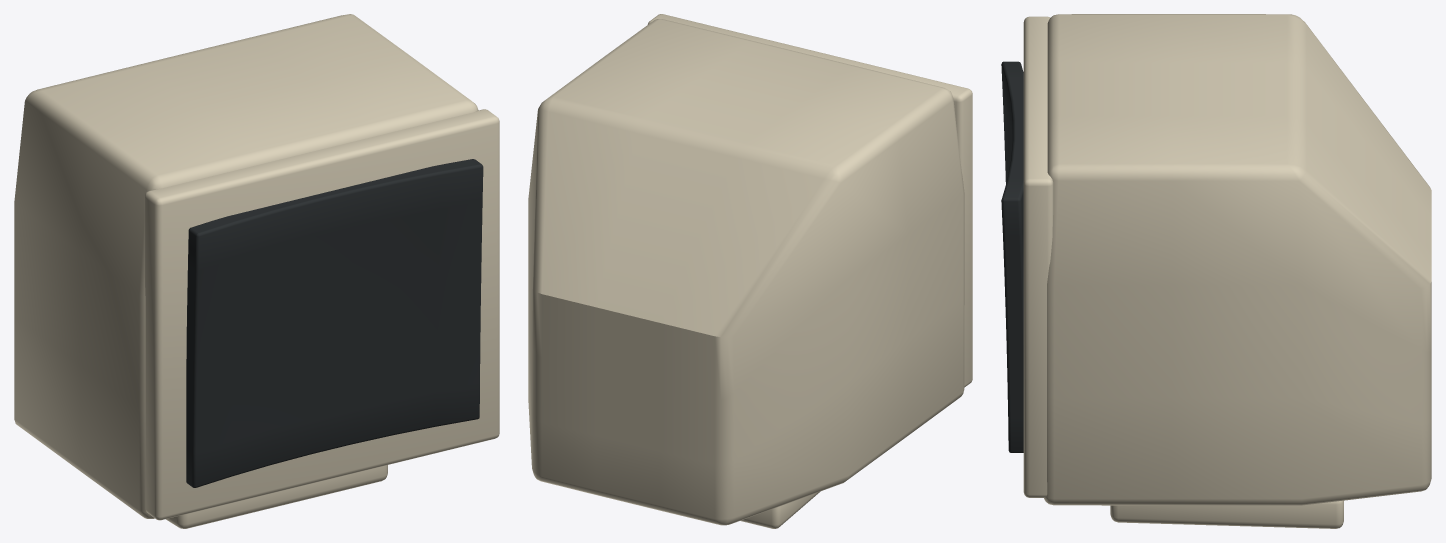
File: crt.glb
The picture shows the model from 3 angles, left to right: view 1: azimuth 30°, elevation 25°; view 2: azimuth 150°, elevation 25°; view 3: azimuth 270°, elevation 25°; orthographic projection. The views are drawn at different scales.
Visible parts, largest first — view 1: CRTMonitor; view 2: CRTMonitor; view 3: CRTMonitor.
Part boxes in pixels (<box>): CRTMonitor: <box>14,14,499,528</box>; CRTMonitor: <box>528,14,972,528</box>; CRTMonitor: <box>1001,14,1431,528</box>.
Size of the model in its own units: 0.405 by 0.43 by 0.4355.
